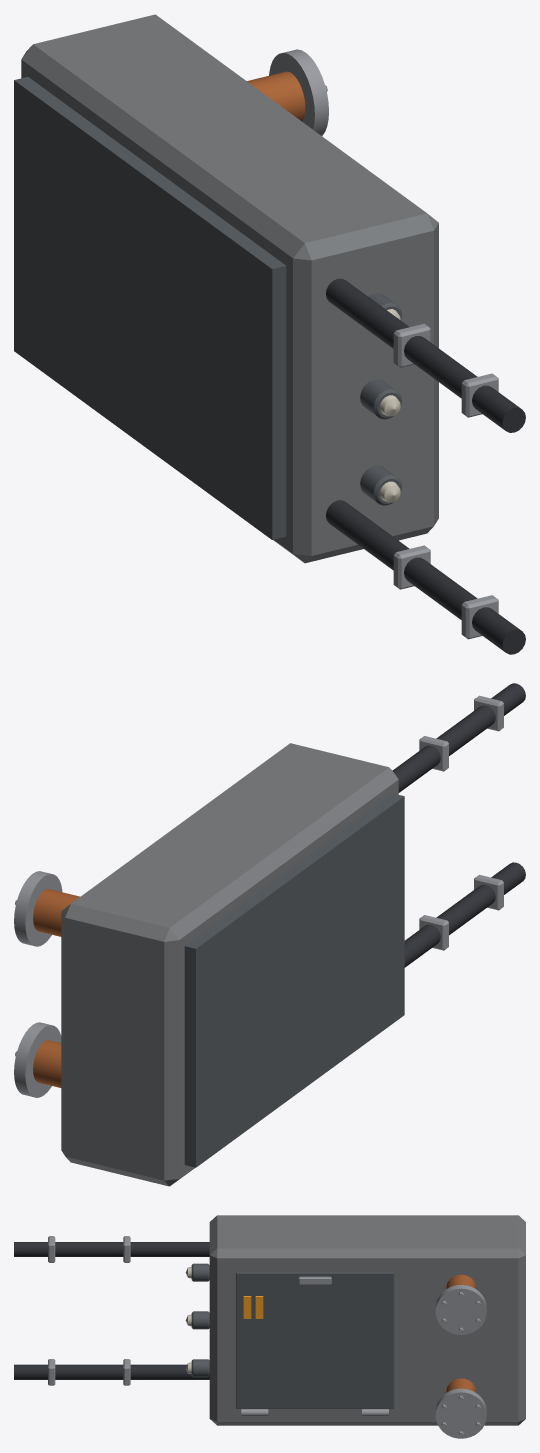
Rendered from cr1_service_module.obj.
3 renders of one model, top to bottom at view 1: azimuth 30°, elevation 25°; view 2: azimuth 150°, elevation 25°; view 3: azimuth 270°, elevation 25°, orthographic. The views are drawn at different scales.
Visible parts, largest first — view 1: cr1_service_module; view 2: cr1_service_module; view 3: cr1_service_module.
Part boxes in pixels (x1,y1,x2,y2): cr1_service_module: (14,14,525,654); cr1_service_module: (14,683,525,1186); cr1_service_module: (14,1215,525,1438).
Size of the model in its own units: 1.07 by 1.3 by 3.4.
